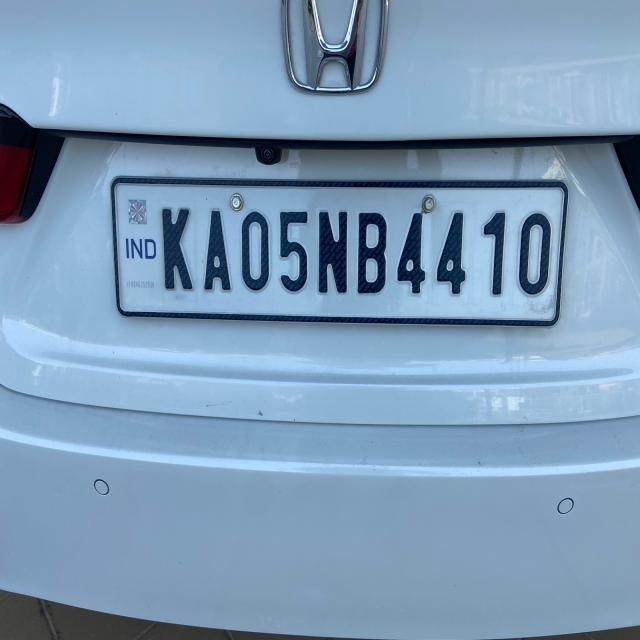0: (515, 204, 553, 302), (238, 202, 273, 298)
1: (478, 202, 511, 302)
4: (393, 207, 434, 303), (434, 205, 472, 298)
5: (274, 202, 311, 296)
A: (200, 202, 234, 298)
B: (354, 204, 392, 296)
K: (153, 202, 197, 302)
N: (312, 202, 352, 298)
